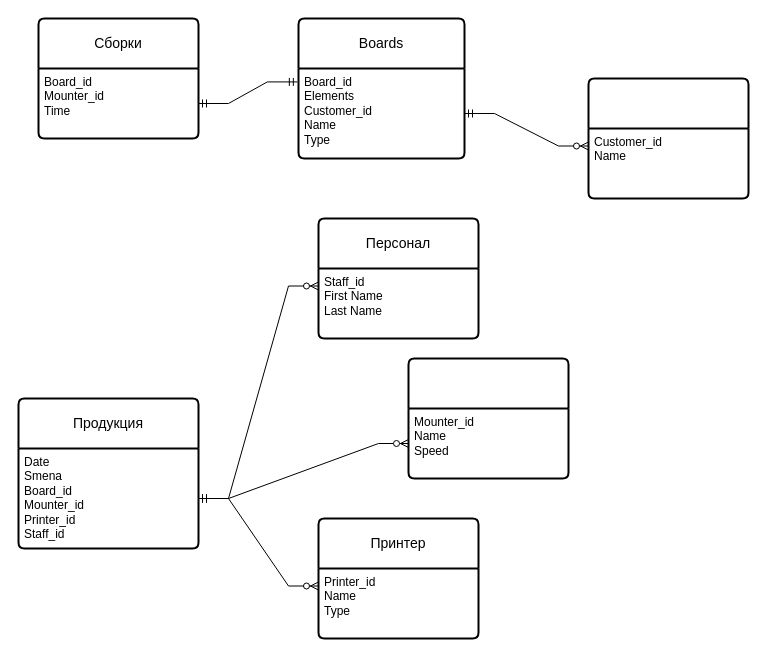
This 766x656 diagram has some shape labels left out. Here are the shapes that lost their labels. From the top down, the box of each, then its label:
(587, 77, 749, 199): Покупатель
(407, 357, 569, 479): Монтажник
